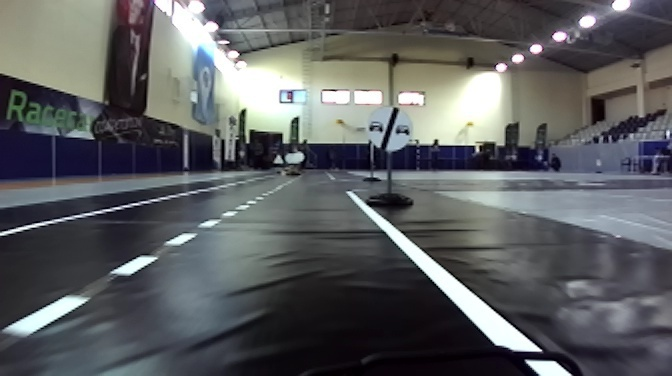sollama_serbest: (367, 106, 412, 152)
